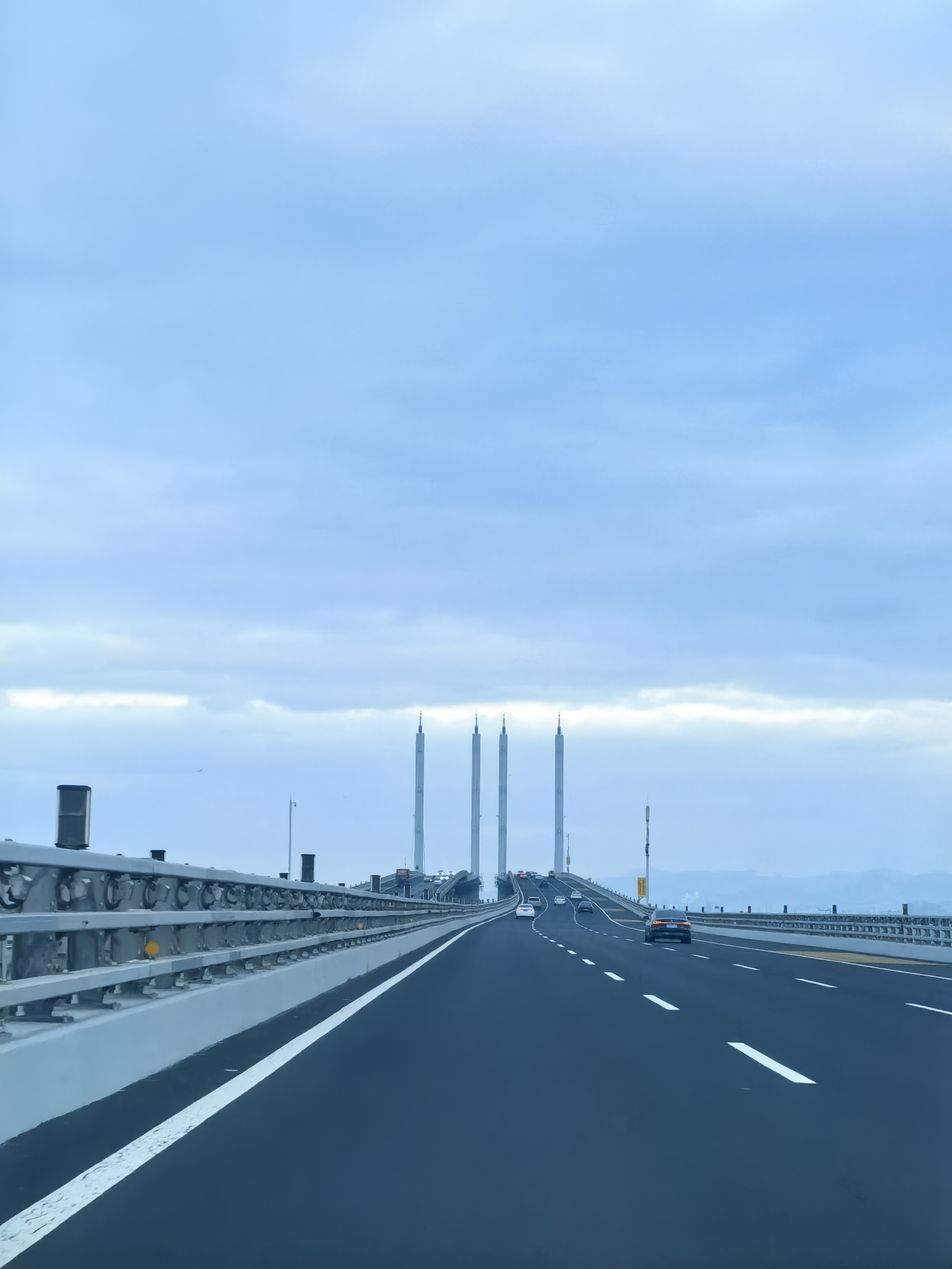lane: (5, 908, 497, 1263), (725, 1039, 818, 1088), (527, 918, 599, 965), (901, 993, 950, 1020), (639, 990, 681, 1014), (792, 974, 838, 992), (727, 958, 754, 975), (600, 966, 624, 982), (690, 951, 712, 964)
